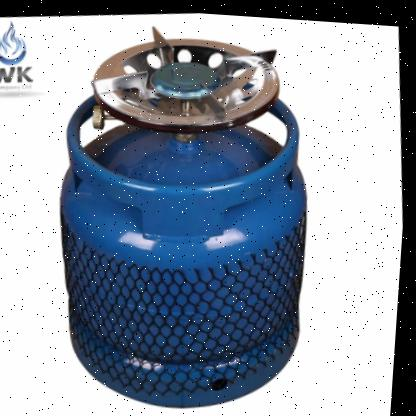gas-tank: (23, 50, 349, 415)
